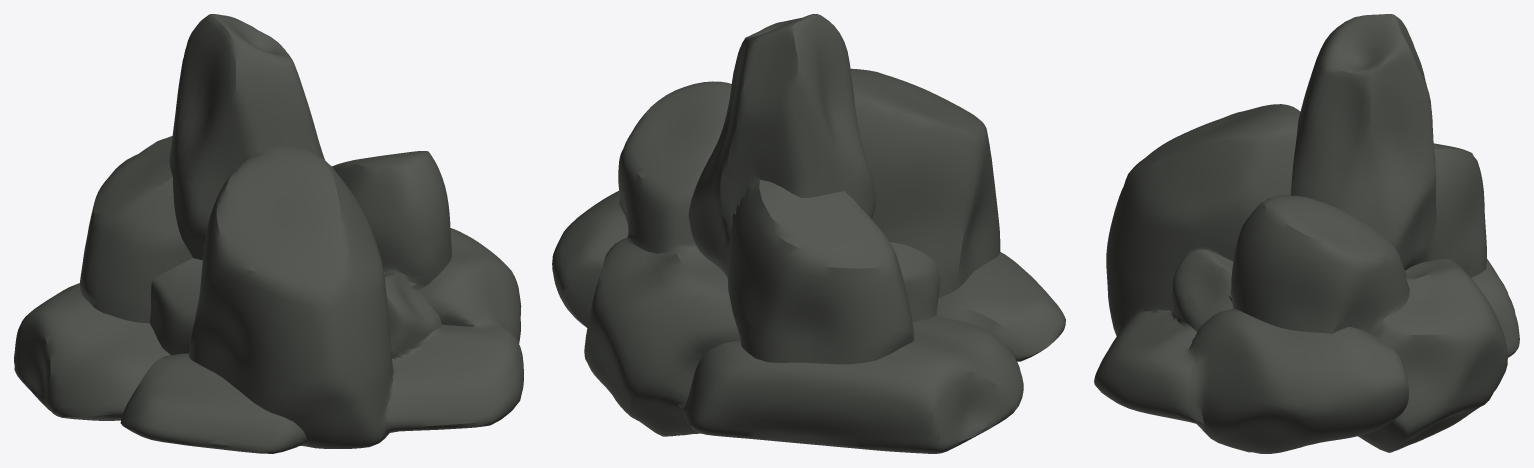
Rendered from quaternius-pirate-cliff-2.glb.
3 renders of one model, left to right at view 1: azimuth 30°, elevation 25°; view 2: azimuth 150°, elevation 25°; view 3: azimuth 270°, elevation 25°, orthographic. The views are drawn at different scales.
Visible parts, largest first — view 1: Environment_Cliff2; view 2: Environment_Cliff2; view 3: Environment_Cliff2.
Part boxes in pixels (x1,y1,x2,y2): Environment_Cliff2: [14, 14, 523, 453]; Environment_Cliff2: [552, 14, 1065, 453]; Environment_Cliff2: [1094, 14, 1519, 453].
Size of the model in its own units: 8 by 6.91 by 7.11.
1 material, 1 textured.
